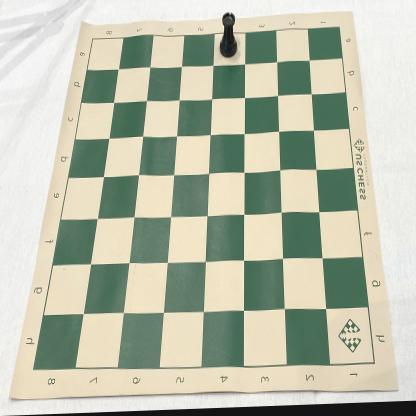black-rook: (220, 14, 238, 60)
